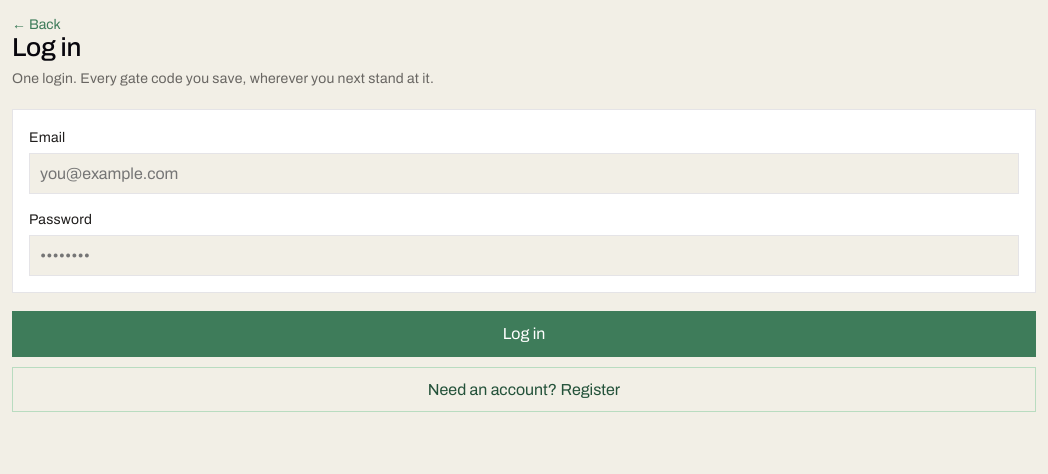
Test: AuthPanel › rejects a malformed email before hitting the network
Type "not-an-email" into the field labelled "Email".
click(524, 173); type("not-an-email")  # box [29,153,1019,194]
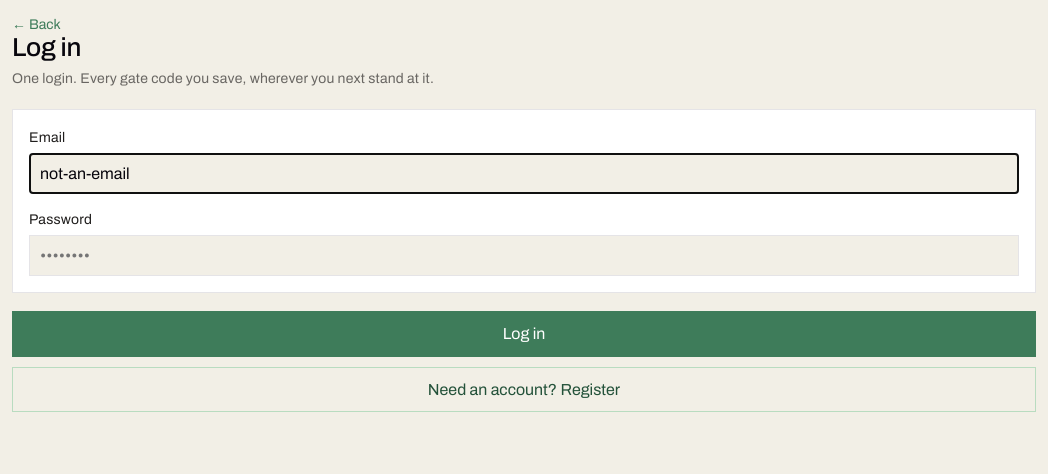
Type "correct horse battery staple" into the password field labelled "Password".
click(524, 256); type("correct horse battery staple")  # box [29,235,1019,276]
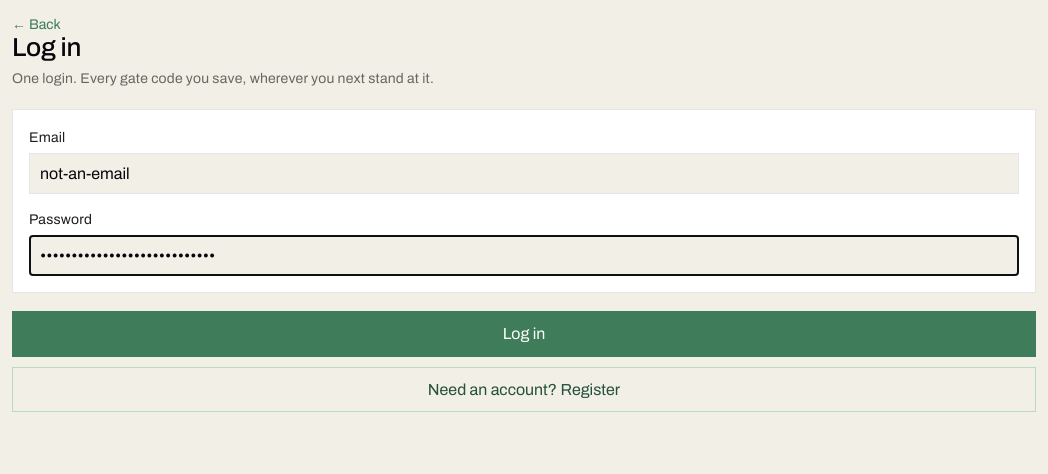
Click the button "Log in".
click(524, 334)  # box [12,311,1036,357]
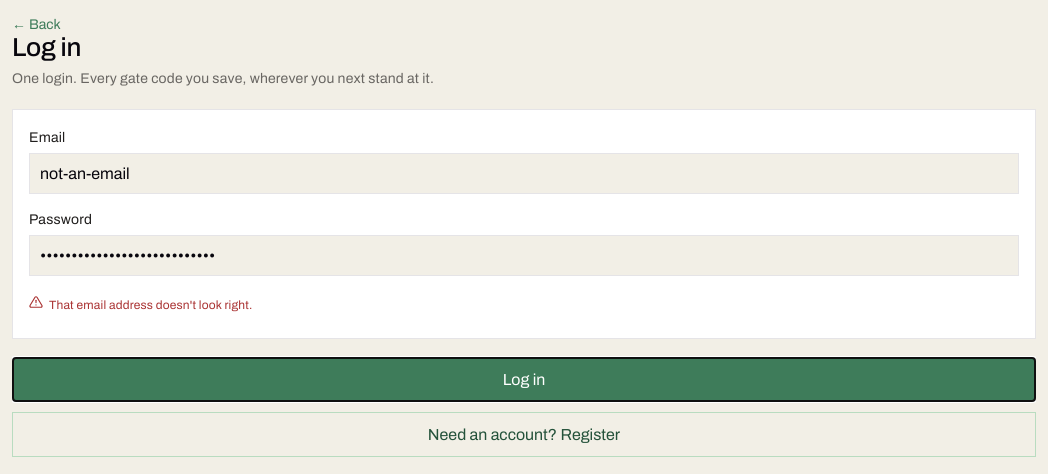
Result: the message reads "That email address doesn't look right." at [49,298,252,312]
